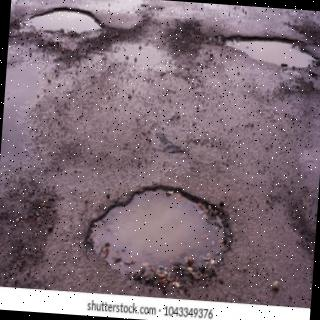pothole: (89, 185, 232, 287), (226, 39, 313, 68), (26, 6, 101, 34)
